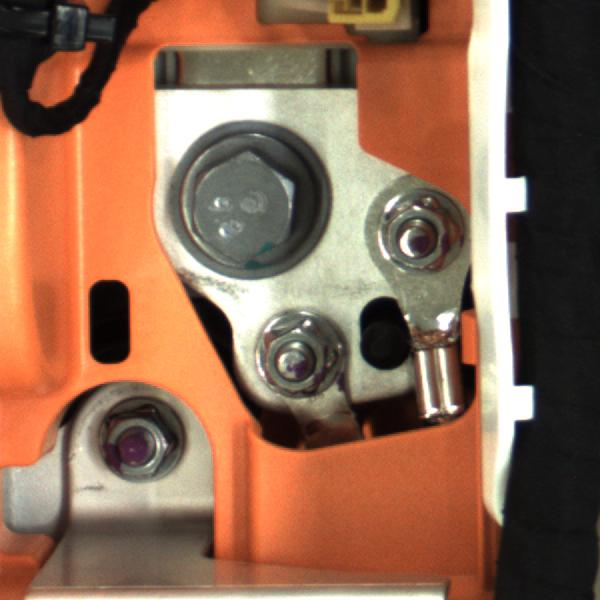nut_b: (163, 127, 328, 267)
screw_s: (245, 303, 349, 396), (95, 392, 192, 489), (380, 187, 476, 279)
